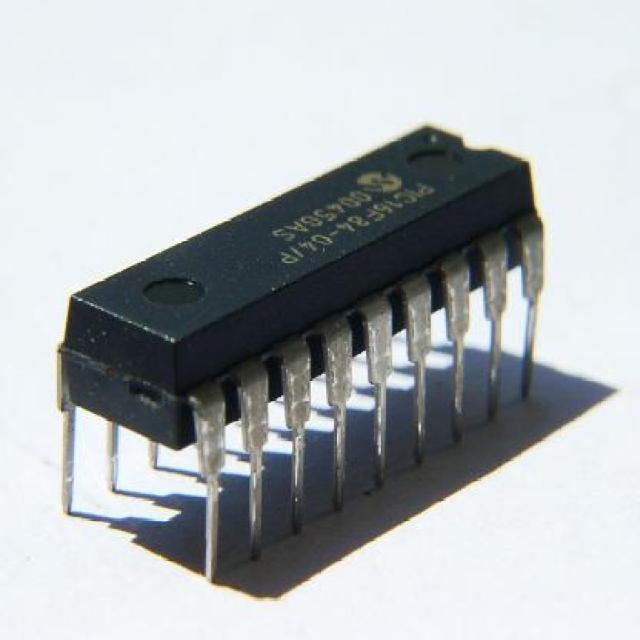IC chip: (58, 126, 546, 577)
